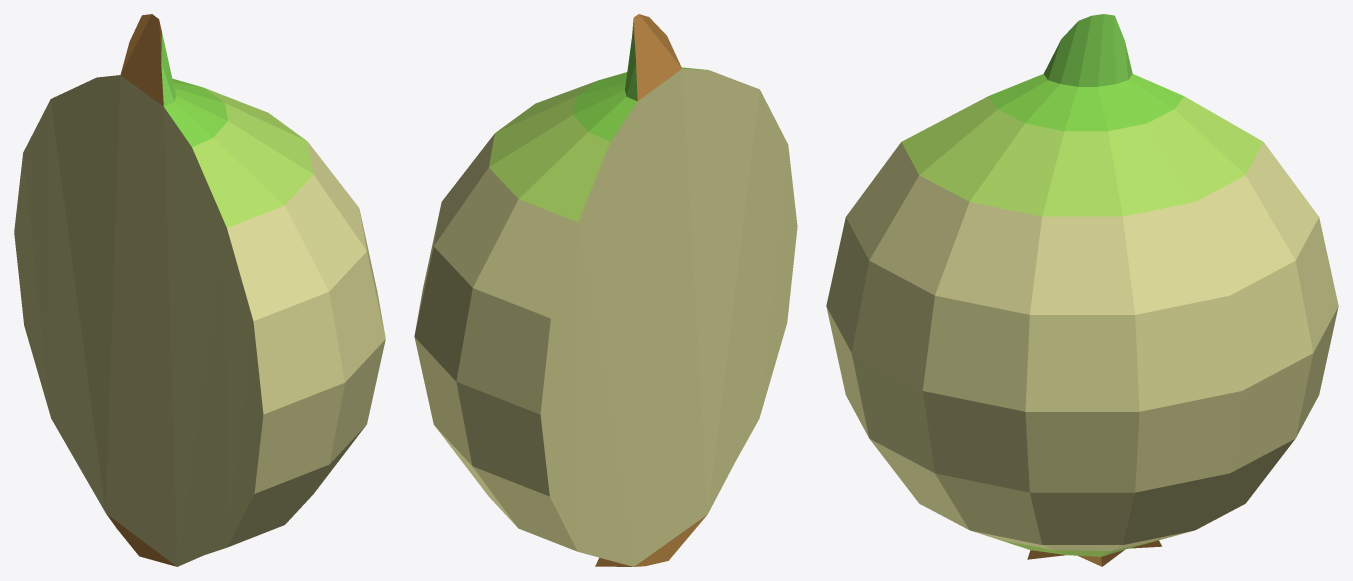
File: Onion_2.fbx
3 views of the same model, side by side, from view 1: azimuth 30°, elevation 25°; view 2: azimuth 150°, elevation 25°; view 3: azimuth 270°, elevation 25° (orthographic). The views are drawn at different scales.
Visible parts, largest first — view 1: Sphere.009; view 2: Sphere.009; view 3: Sphere.009.
Boxes of the visible parts, <box> form: Sphere.009: <box>14,14,385,566</box>; Sphere.009: <box>414,14,797,566</box>; Sphere.009: <box>826,14,1338,566</box>.
Bounding box in the file's own units: 260 × 305 × 128.
